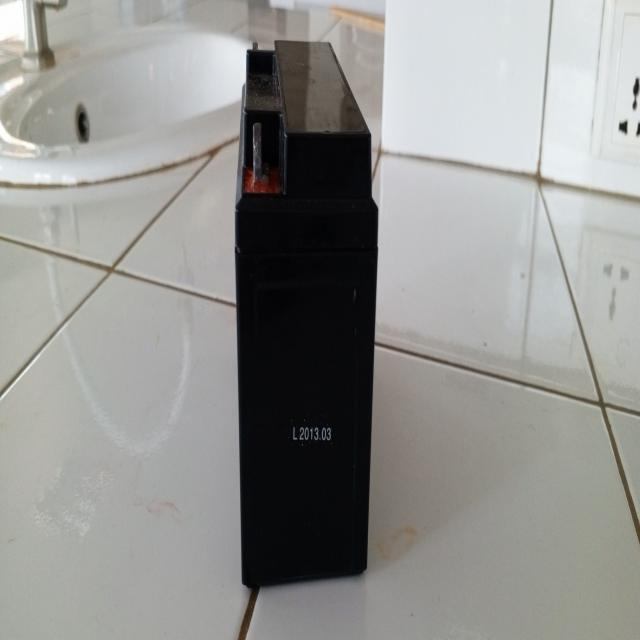Dry Cell: (225, 25, 391, 608)
